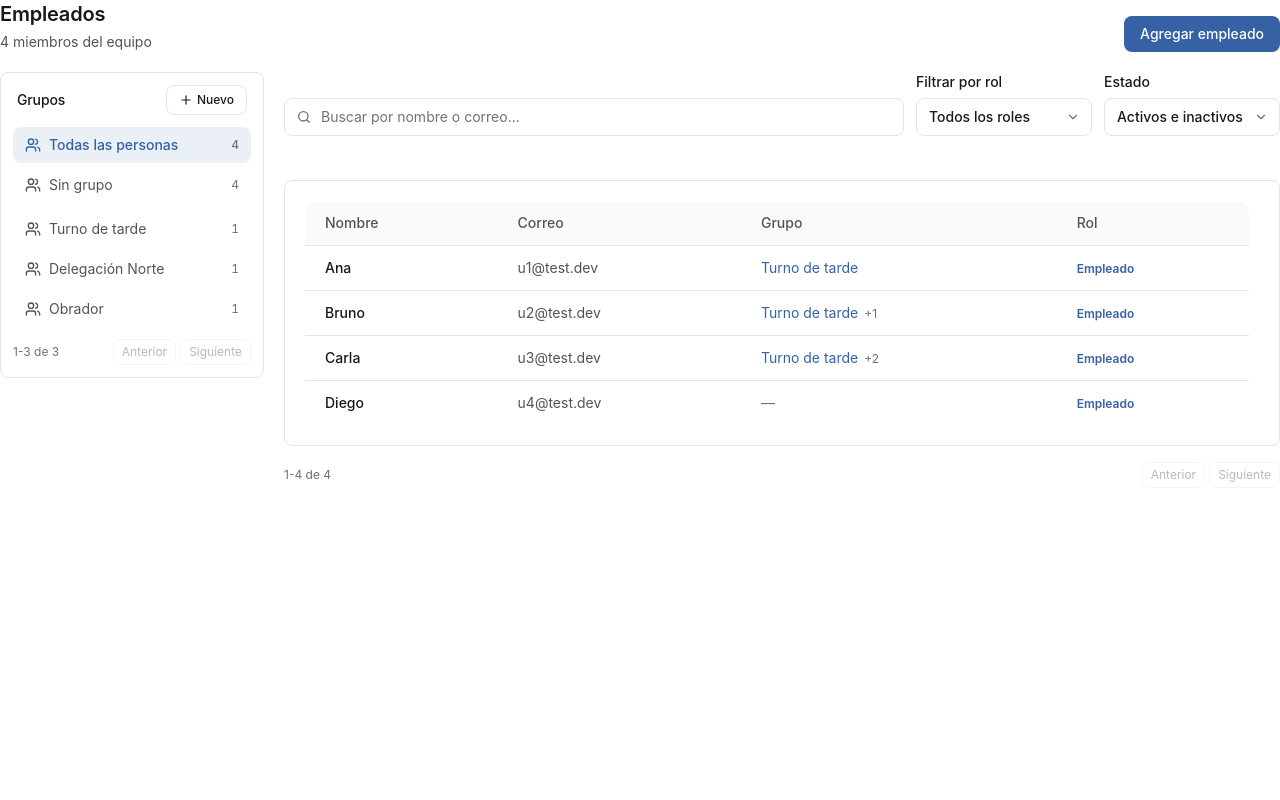
Scenario: clicking a group › still opens the person when the row itself is clicked
The width and height of the screenshot is (1280, 800).
Check: the text "Ana" is shown, box [325, 259, 351, 276]
# The guard above must not have cost the row its own behaviour.
Step 1. Click the text "u1@test.dev" → click(558, 268), box [502, 246, 745, 290]
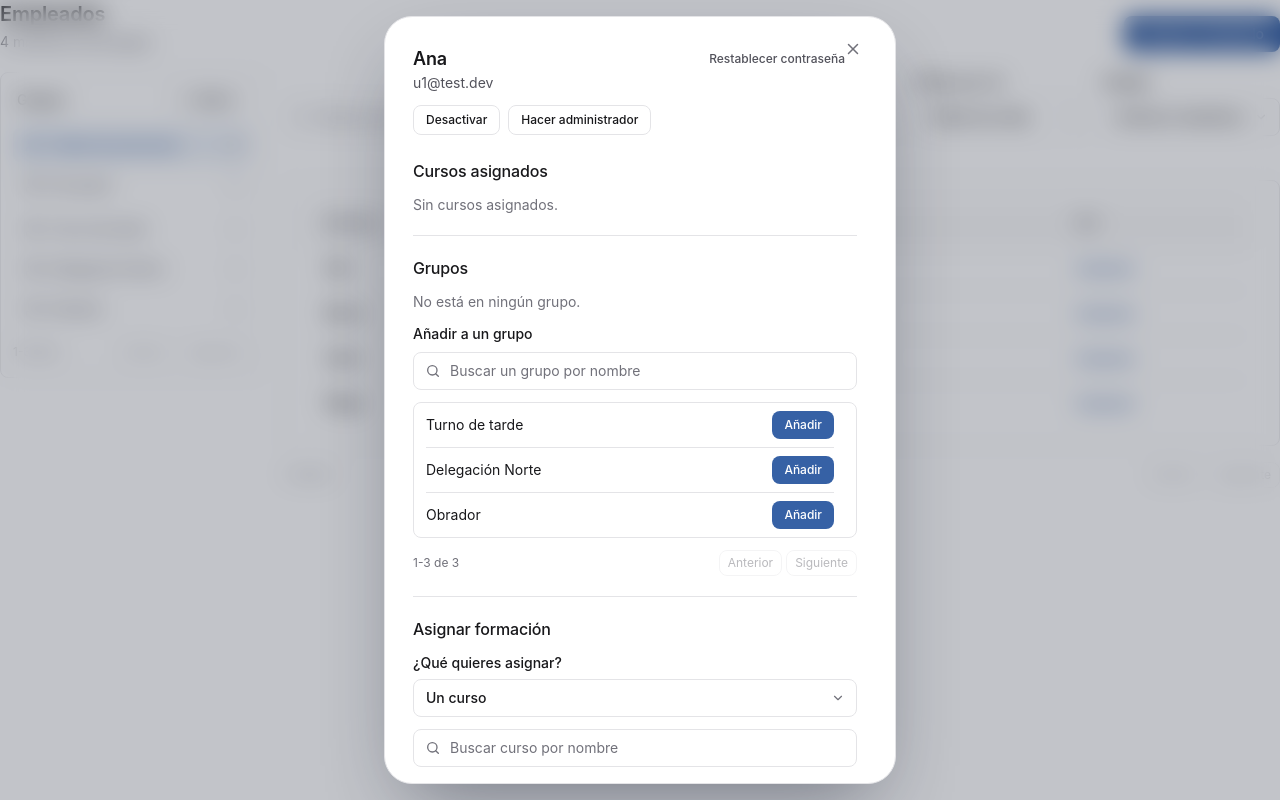
Check: the dialog is shown, box [384, 16, 896, 784]
